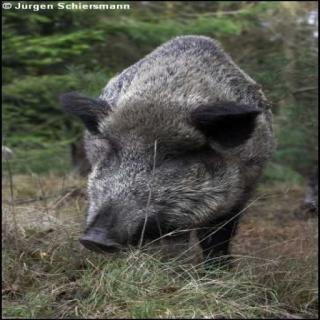Pig: (54, 38, 276, 298)
